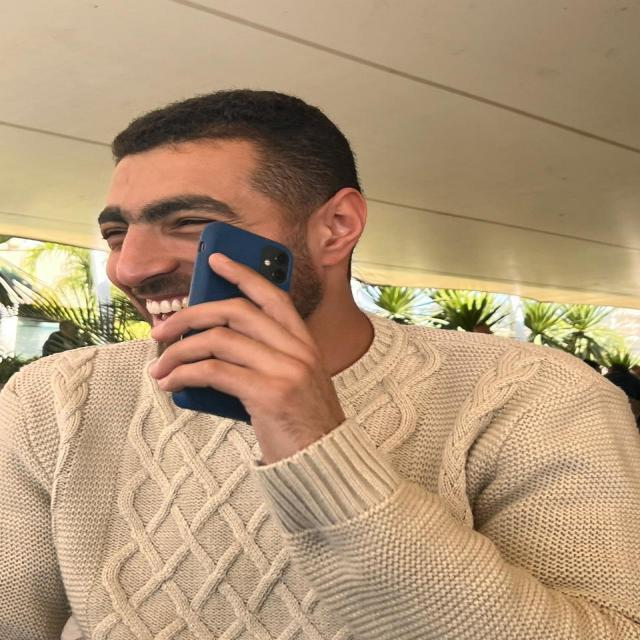phone: (170, 226, 292, 417)
